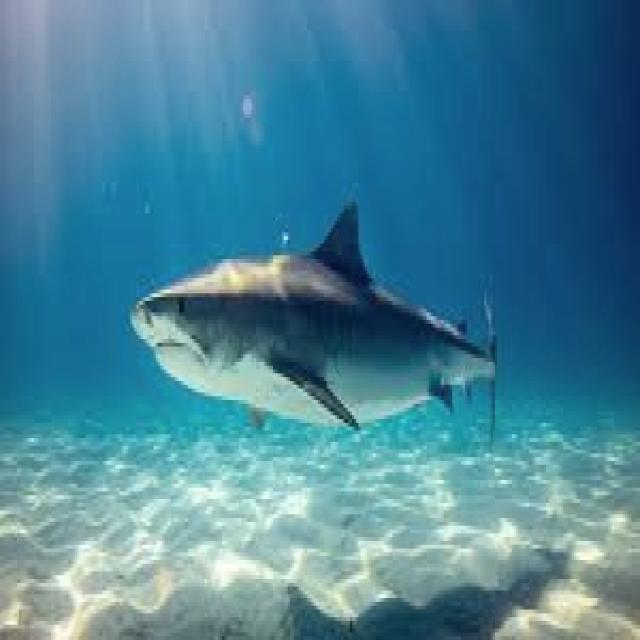shark: (130, 198, 495, 430)
